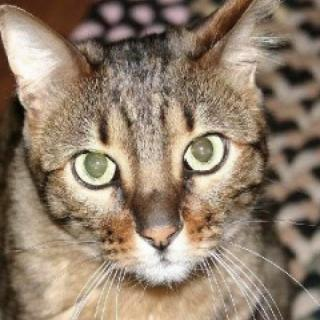cat: (0, 1, 283, 292)
nose: (124, 186, 189, 258)
